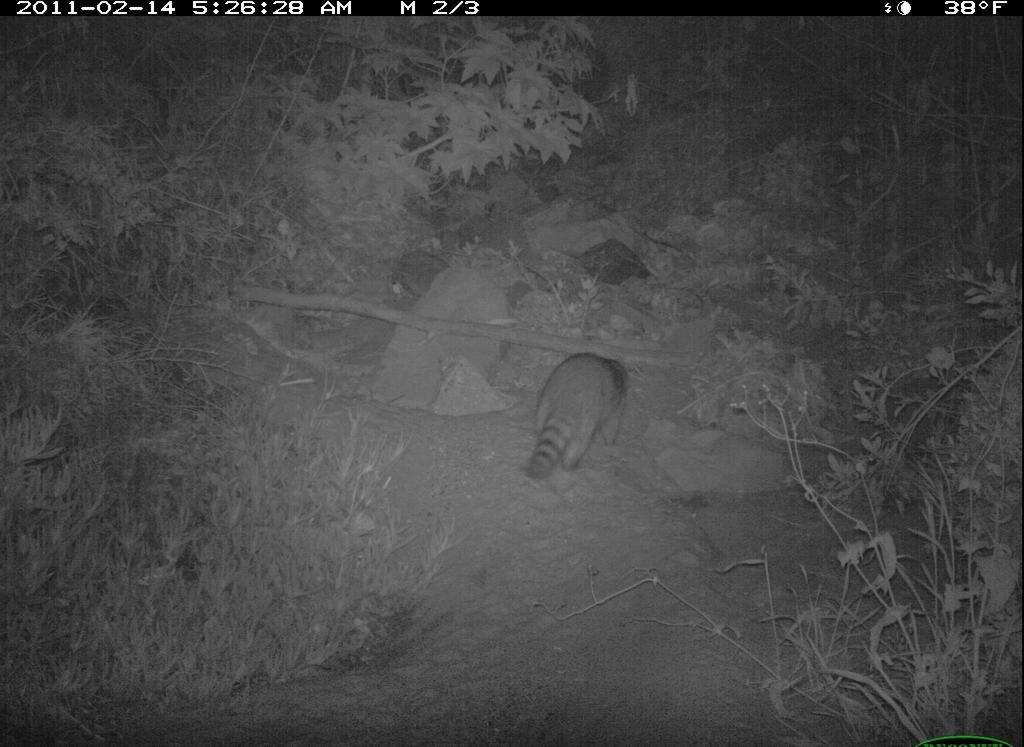raccoon: (519, 332, 639, 497)
